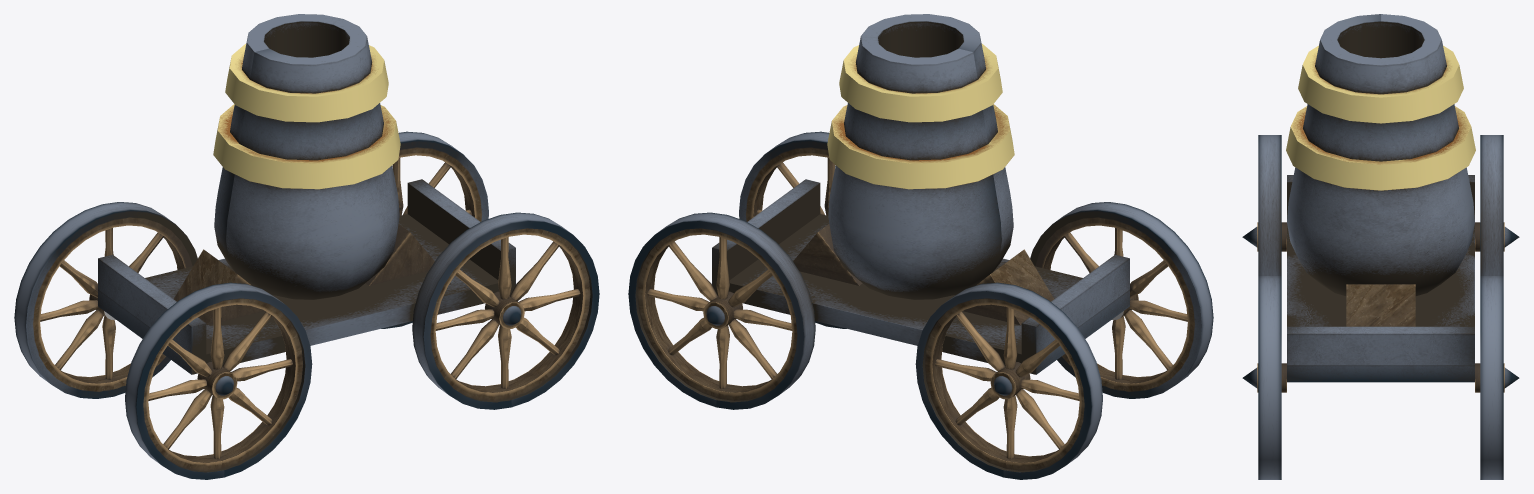
The model's file is Gun02.fbx.
The picture shows the model from 3 angles, left to right: view 1: azimuth 30°, elevation 25°; view 2: azimuth 150°, elevation 25°; view 3: azimuth 270°, elevation 25°; orthographic projection.
Parts seen in each view (by area): view 1: Cylinder.029, Cylinder.027, Plane.006, Plane.007, Cylinder.032; view 2: Cylinder.029, Cylinder.027, Plane.006, Plane.007, Cylinder.032; view 3: Cylinder.027, Cylinder.029, Plane.006, Plane.007, Cylinder.032.
Boxes of the visible parts, bbox=[...] form: Cylinder.029: bbox=[14, 131, 599, 479]; Cylinder.027: bbox=[213, 14, 400, 299]; Plane.006: bbox=[98, 214, 515, 374]; Plane.007: bbox=[98, 179, 515, 356]; Cylinder.032: bbox=[174, 224, 434, 325]; Cylinder.029: bbox=[628, 131, 1213, 479]; Cylinder.027: bbox=[827, 14, 1014, 299]; Plane.006: bbox=[712, 214, 1129, 374]; Plane.007: bbox=[712, 179, 1129, 356]; Cylinder.032: bbox=[793, 224, 1053, 325]; Cylinder.027: bbox=[1286, 14, 1475, 295]; Cylinder.029: bbox=[1242, 135, 1519, 479]; Plane.006: bbox=[1287, 213, 1474, 382]; Plane.007: bbox=[1287, 175, 1474, 365]; Cylinder.032: bbox=[1346, 284, 1415, 326].
Size of the model in its own units: 572 by 423 by 295.
1 material, 1 textured.
